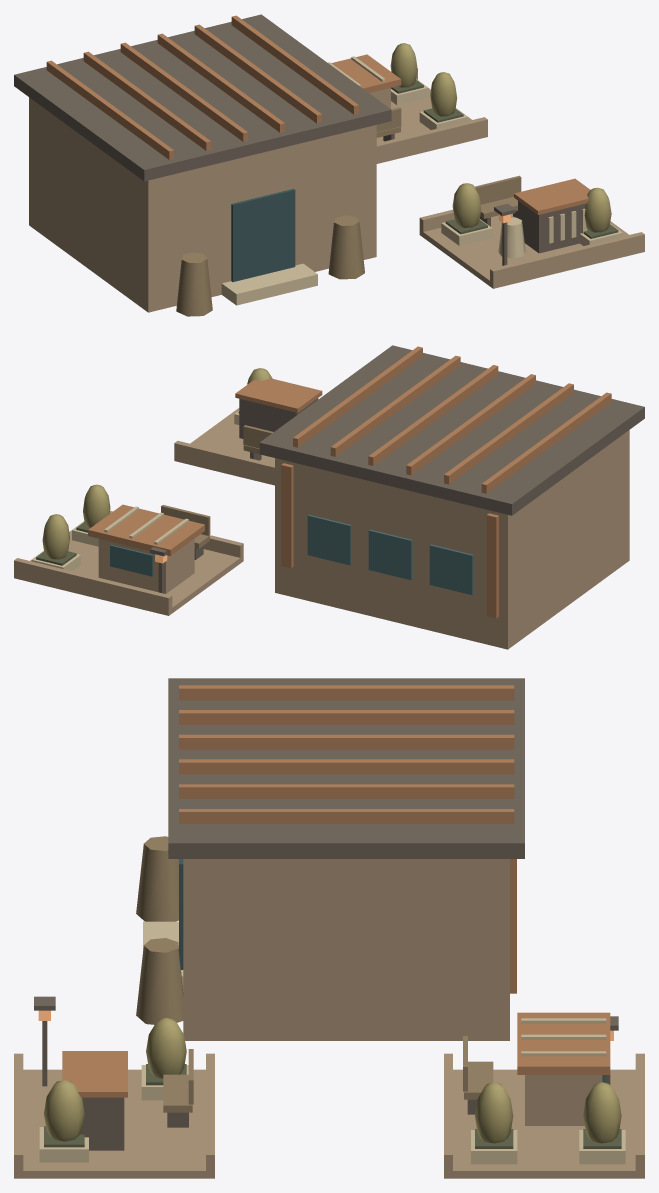
Rendered from train.glb.
The picture shows the model from 3 angles, top to bottom: view 1: azimuth 30°, elevation 25°; view 2: azimuth 150°, elevation 25°; view 3: azimuth 270°, elevation 25°; orthographic projection. The views are drawn at different scales.
Parts seen in each view (by area): view 1: ARENA wall, ARENA roof, ARENA metal (×7), ARENA stone (×5), ARENA paving (×2), ARENA window, ARENA trunk (×3), ARENA leaves (×4), ARENA trim, ARENA panel, ARENA canopy, ARENA wood; view 2: ARENA wall (×2), ARENA roof, ARENA metal (×9), ARENA window (×4), ARENA paving (×2), ARENA stone (×3), ARENA canopy, ARENA leaves (×2), ARENA panel, ARENA wood (×2); view 3: ARENA wall (×2), ARENA roof, ARENA metal (×8), ARENA paving (×2), ARENA leaves (×4), ARENA stone (×7), ARENA trunk (×2), ARENA canopy, ARENA panel, ARENA wood (×2), ARENA trim.
Boxes of the visible parts, x1,y1,x2,y2 form: ARENA wall: (29,97,376,312); ARENA roof: (14,14,391,181); ARENA metal (×7): (46,15,585,253); ARENA stone (×5): (376,79,644,285); ARENA paving (×2): (376,80,644,288); ARENA window: (231,188,295,281); ARENA trunk (×3): (176,215,525,316); ARENA leaves (×4): (390,43,611,232); ARENA trim: (221,263,317,305); ARENA panel: (514,178,590,214); ARENA canopy: (331,54,401,92); ARENA wood: (475,175,521,204); ARENA wall (×2): (98,430,629,649); ARENA roof: (259,345,644,515); ARENA metal (×9): (239,346,611,618); ARENA window (×4): (110,514,473,595); ARENA paving (×2): (14,408,274,615); ARENA stone (×3): (14,440,274,612); ARENA canopy: (88,504,204,555); ARENA leaves (×2): (42,484,110,559); ARENA panel: (235,378,322,412); ARENA wood (×2): (161,425,273,535); ARENA wall (×2): (183,859,602,1125); ARENA roof: (168,678,524,858); ARENA metal (×8): (79,685,516,1150); ARENA paving (×2): (14,1069,644,1178); ARENA leaves (×4): (44,1018,621,1143); ARENA stone (×7): (14,1053,644,1174); ARENA trunk (×2): (136,836,183,1024); ARENA canopy: (517,1012,610,1074); ARENA panel: (62,1051,127,1097); ARENA wood (×2): (163,1061,493,1112); ARENA trim: (143,921,183,991).
Bounding box in the file's own units: 8.17 × 2.77 × 7.34.
